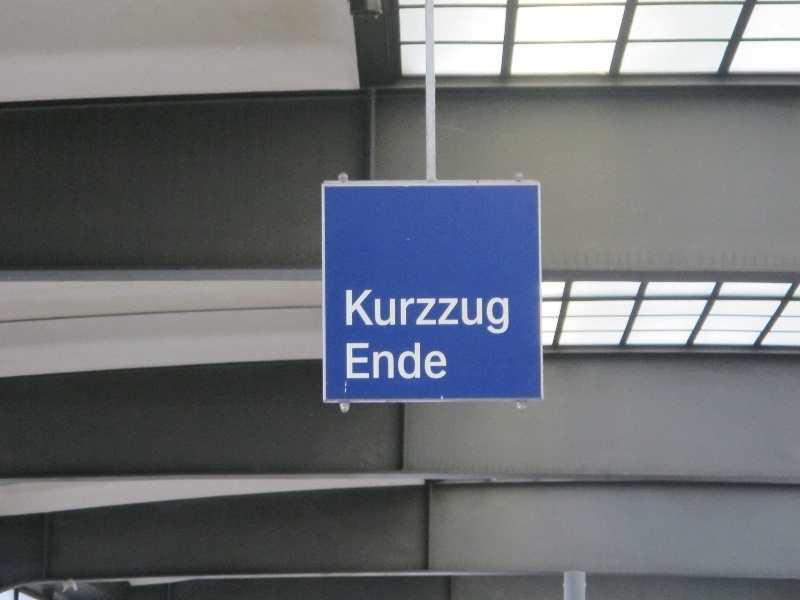text: (353, 289, 368, 336), (369, 289, 384, 336), (385, 289, 400, 336), (401, 289, 416, 336), (417, 289, 432, 336), (433, 289, 448, 336), (449, 289, 464, 336), (465, 289, 480, 336), (481, 289, 496, 336), (497, 289, 510, 336), (353, 343, 368, 379), (369, 343, 384, 379), (385, 343, 400, 379), (401, 343, 416, 379), (417, 343, 432, 379), (433, 343, 447, 379), (345, 289, 352, 336), (347, 343, 352, 379)
